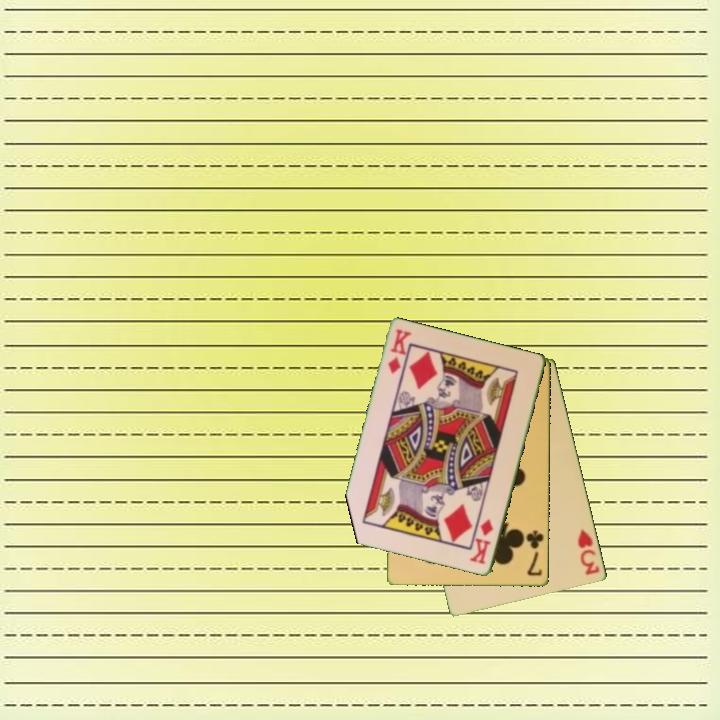3h: (574, 525, 603, 578)
7c: (523, 527, 547, 579)
Kd: (384, 326, 414, 377), (468, 515, 496, 567)
